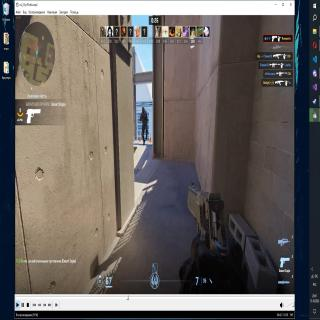CT-Body: (140, 104, 149, 148)
CT-Head: (141, 103, 146, 115)
